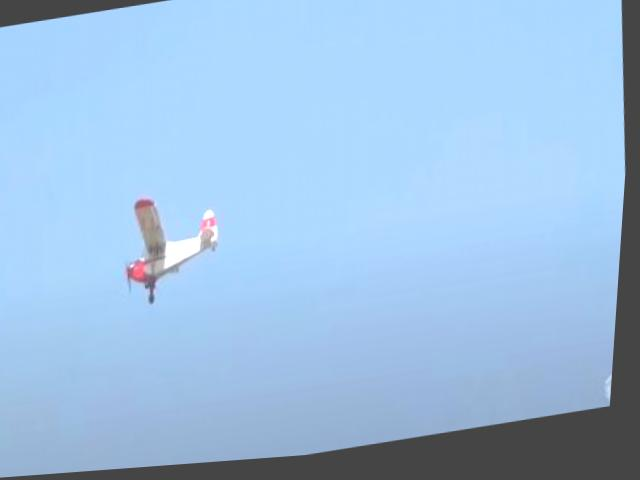uav: (114, 178, 236, 322)
